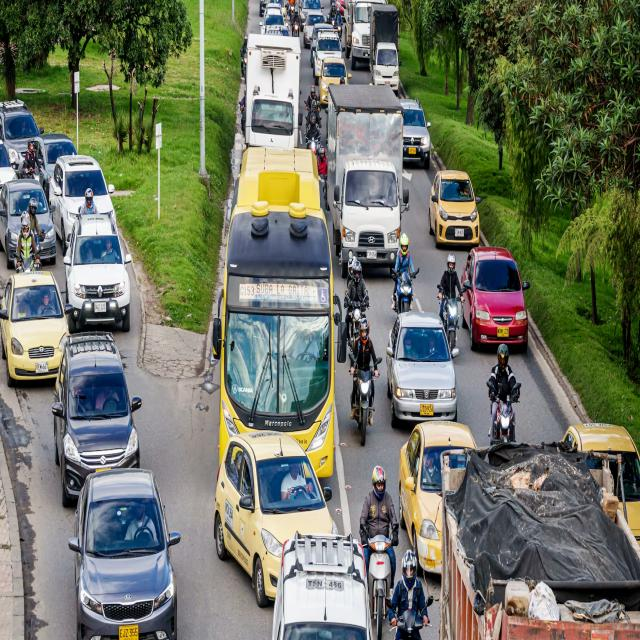BUS: (221, 146, 336, 481)
MOTORCYCLE: (364, 533, 394, 637), (354, 362, 376, 451), (444, 284, 460, 357), (394, 268, 415, 316)
TRUCK: (326, 84, 400, 268)
